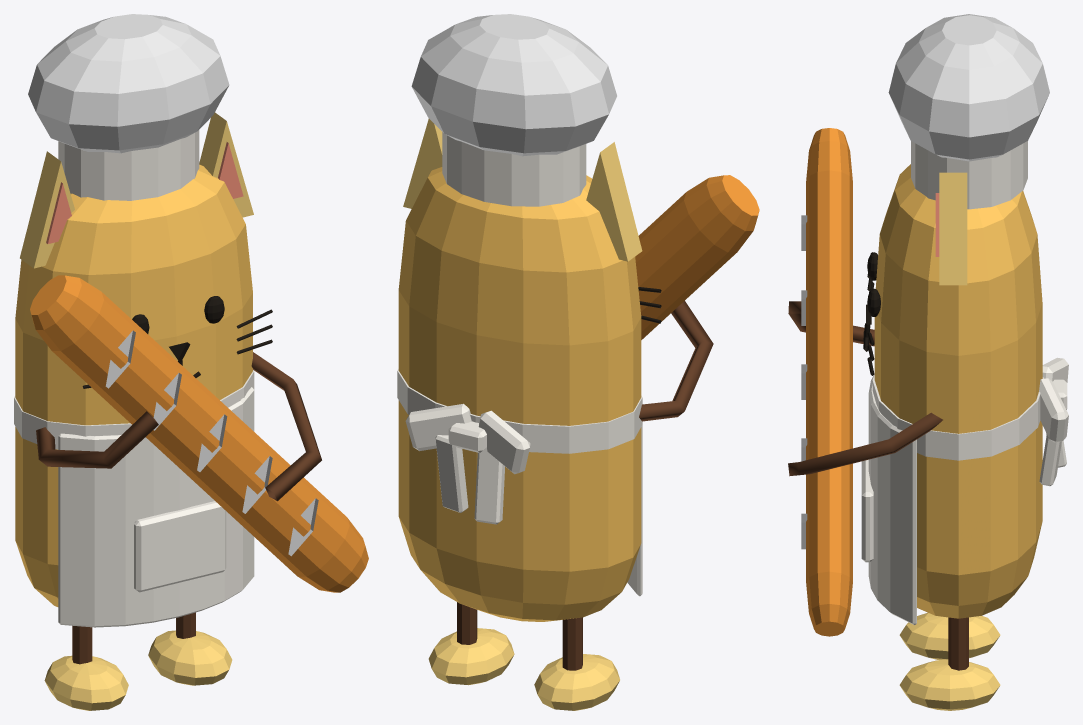
The model's file is char_baker_cat_rebuild_v3.glb.
3 views of the same model, side by side, from view 1: azimuth 30°, elevation 25°; view 2: azimuth 150°, elevation 25°; view 3: azimuth 270°, elevation 25° (orthographic). The views are drawn at different scales.
Parts seen in each view (by area): view 1: BC3_Body_Capsule, BC3_Baguette, BC3_Apron_Front, BC3_Hat_Puff, BC3_Apron_Pocket, BC3_Hat_Band, BC3_Foot_L, BC3_Foot_R, BC3_Arm_R_LowerWrap, BC3_Ear_L, BC3_Arm_L_UpperSupport, BC3_Apron_Waistband (+4 smaller); view 2: BC3_Body_Capsule, BC3_Hat_Puff, BC3_Baguette, BC3_Hat_Band, BC3_Apron_Waistband, BC3_Foot_L, BC3_Foot_R, BC3_Ear_L, BC3_Arm_L_UpperSupport, BC3_Ribbon_L, BC3_Bow_R, BC3_Bow_L (+6 smaller); view 3: BC3_Body_Capsule, BC3_Baguette, BC3_Hat_Puff, BC3_Apron_Front, BC3_Hat_Band, BC3_Apron_Waistband, BC3_Foot_R, BC3_Ear_R, BC3_Foot_L, BC3_Arm_R_LowerWrap, BC3_Bow_R, BC3_Apron_Pocket (+4 smaller).
Boxes of the visible parts, x1,y1,x2,y2 form: BC3_Body_Capsule: (15, 164, 252, 606); BC3_Baguette: (30, 275, 368, 592); BC3_Apron_Front: (58, 387, 254, 627); BC3_Hat_Puff: (28, 14, 229, 153); BC3_Apron_Pocket: (134, 501, 226, 592); BC3_Hat_Band: (58, 130, 199, 200); BC3_Foot_L: (44, 655, 128, 710); BC3_Foot_R: (148, 630, 232, 685); BC3_Arm_R_LowerWrap: (251, 352, 321, 501); BC3_Ear_L: (20, 151, 74, 268); BC3_Arm_L_UpperSupport: (36, 411, 158, 468); BC3_Apron_Waistband: (14, 370, 254, 449); BC3_Body_Capsule: (398, 167, 641, 621); BC3_Hat_Puff: (411, 14, 616, 156); BC3_Baguette: (635, 175, 759, 339); BC3_Hat_Band: (442, 132, 586, 206); BC3_Apron_Waistband: (397, 369, 642, 453); BC3_Foot_L: (534, 654, 619, 710); BC3_Foot_R: (428, 628, 514, 685); BC3_Ear_L: (586, 142, 642, 261); BC3_Arm_L_UpperSupport: (639, 301, 713, 421); BC3_Ribbon_L: (474, 448, 504, 524); BC3_Bow_R: (405, 403, 471, 450); BC3_Bow_L: (478, 410, 530, 474); BC3_Body_Capsule: (874, 164, 1042, 618); BC3_Baguette: (801, 128, 852, 636); BC3_Hat_Puff: (888, 14, 1049, 161); BC3_Apron_Front: (868, 374, 916, 625); BC3_Hat_Band: (911, 141, 1027, 209); BC3_Apron_Waistband: (872, 374, 1043, 460); BC3_Foot_R: (899, 659, 1000, 710); BC3_Ear_R: (939, 172, 967, 285); BC3_Foot_L: (899, 612, 1000, 659); BC3_Arm_R_LowerWrap: (788, 412, 942, 476); BC3_Bow_R: (1039, 378, 1068, 442); BC3_Apron_Pocket: (861, 459, 873, 562).
Size of the model in its own units: 3.56 by 6.67 by 2.61.
